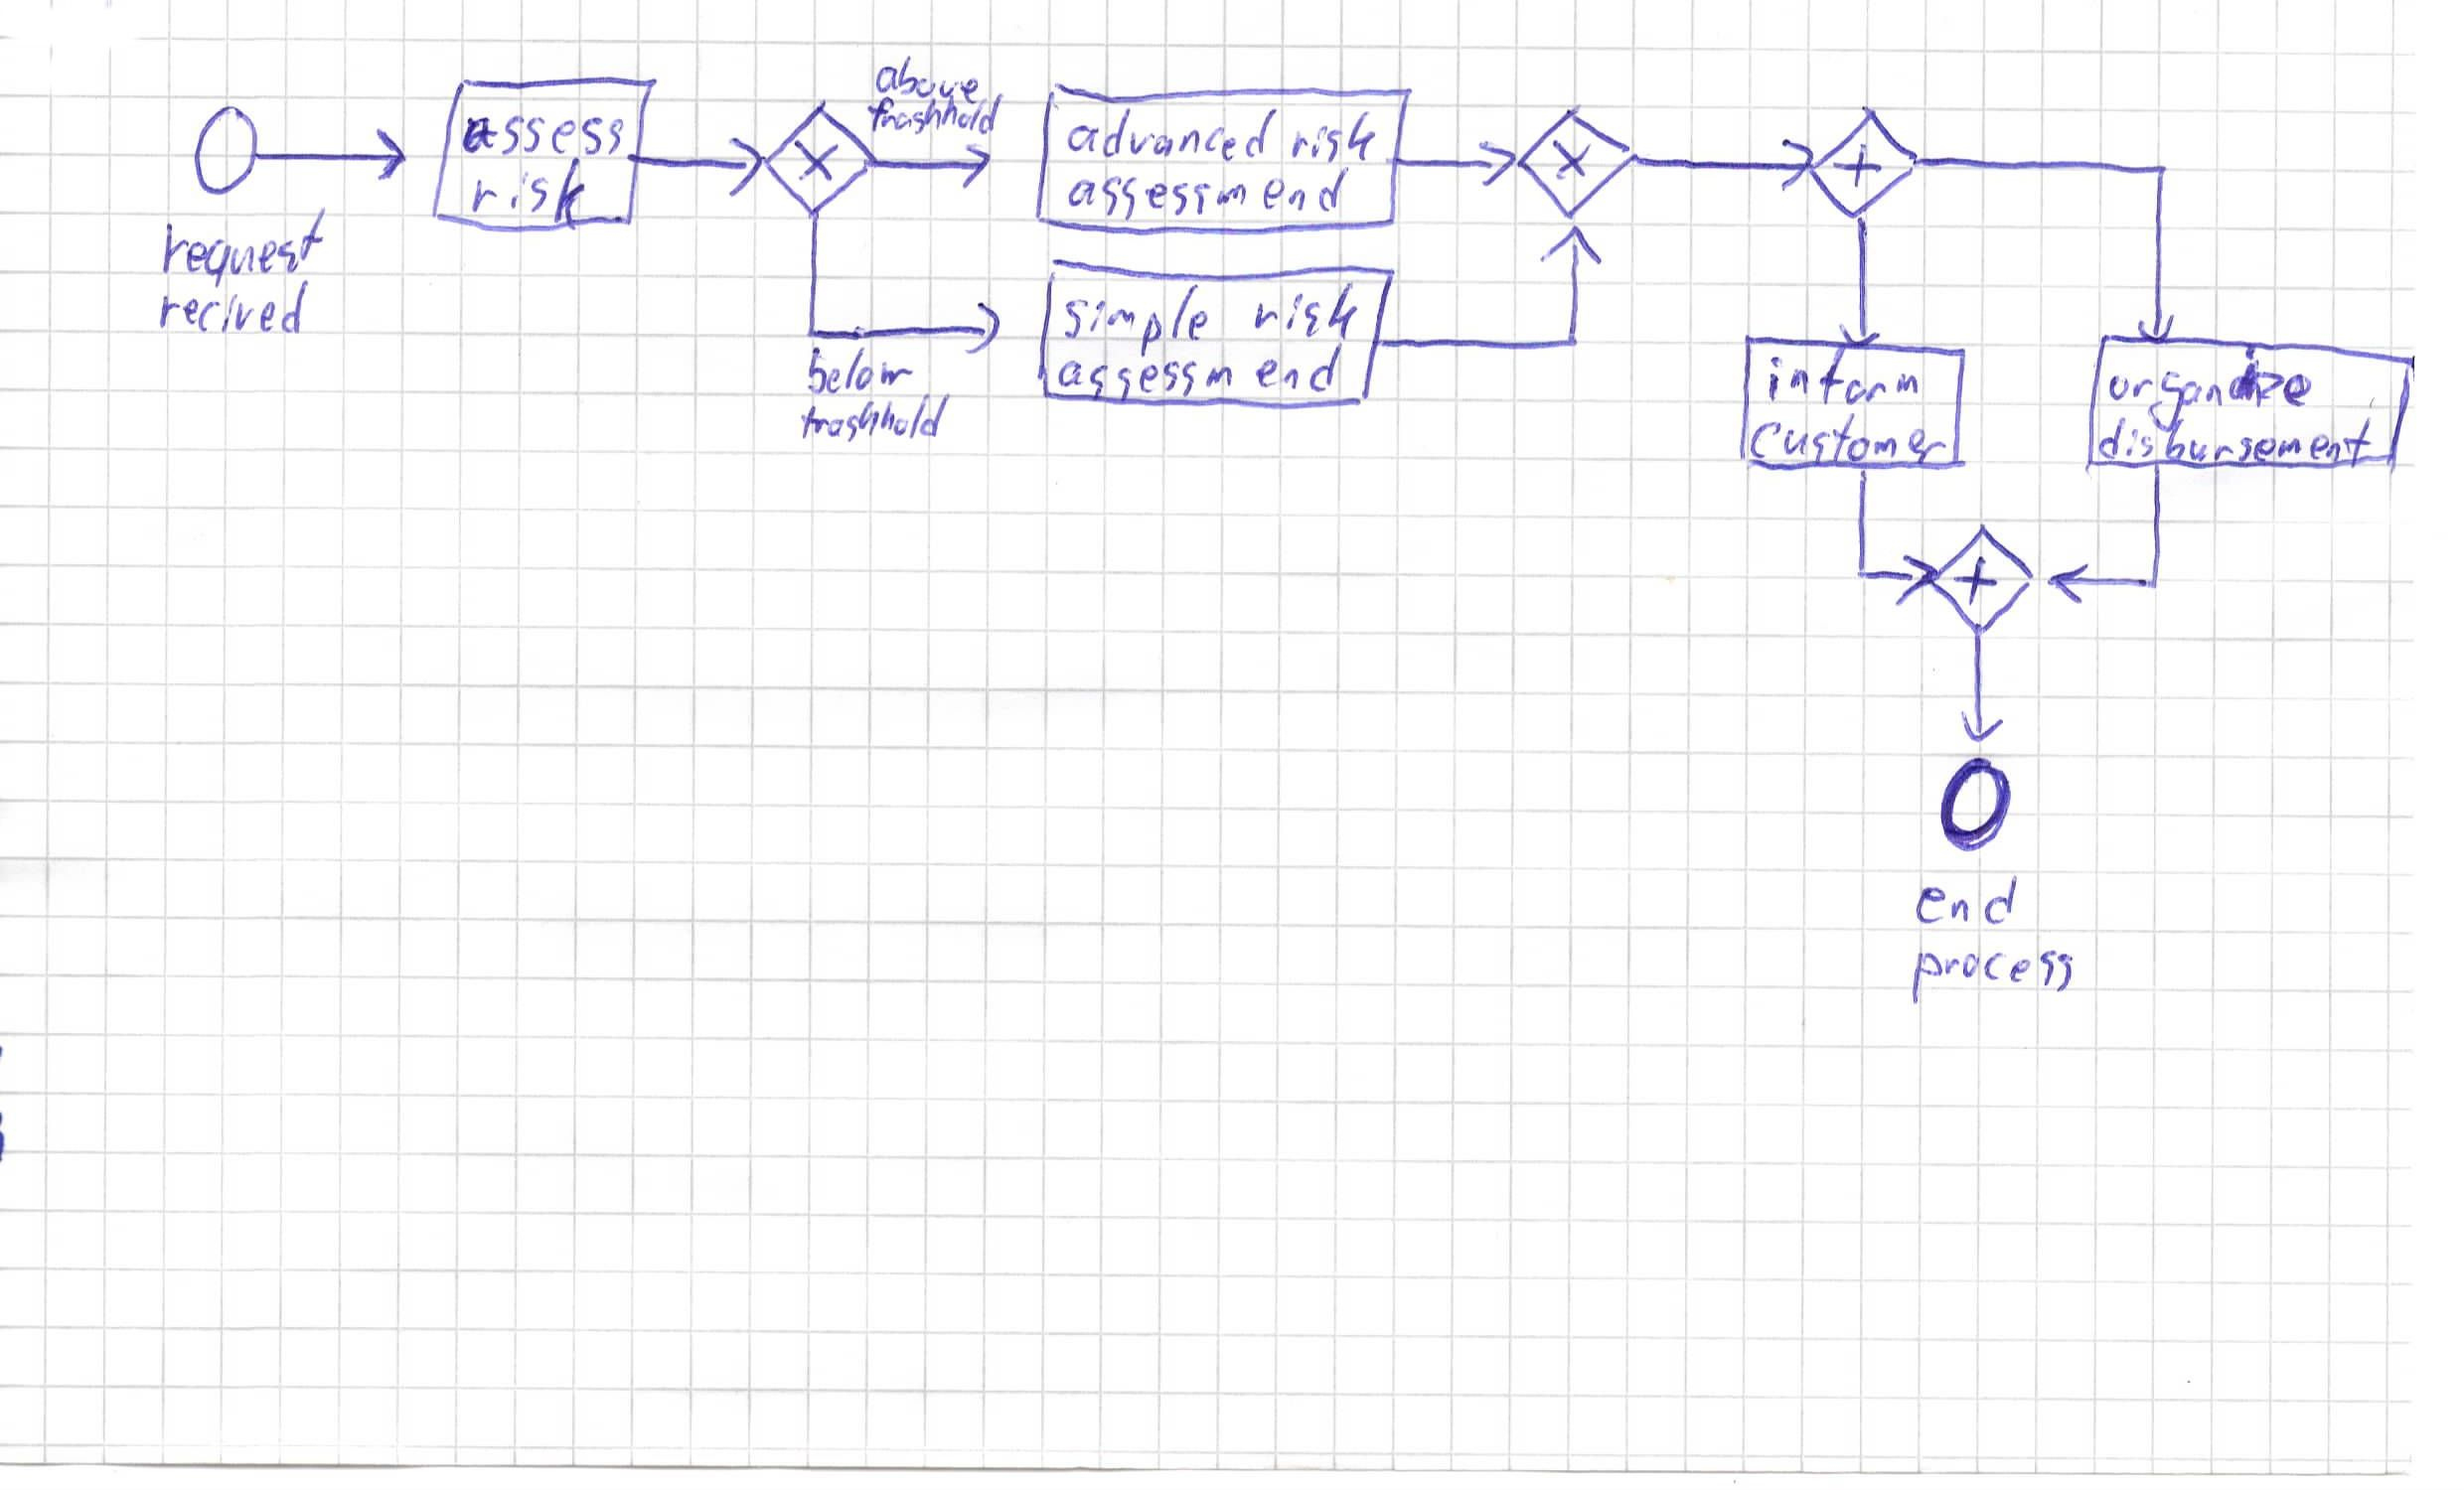above: (875, 58, 986, 102)
advanced: (1067, 104, 1281, 171)
assess: (465, 111, 628, 171)
assessmend: (1058, 164, 1364, 218), (1056, 343, 1345, 396)
below: (806, 341, 912, 401)
customer: (1746, 412, 1952, 470)
disbursement: (2094, 419, 2399, 464)
end: (1904, 866, 2029, 934), (1250, 341, 1353, 398), (1262, 171, 1353, 218)
inform: (1762, 348, 1920, 403)
organize: (2100, 348, 2314, 426)
process: (1904, 941, 2077, 1004)
recived: (153, 281, 313, 340)
request: (157, 204, 336, 281)
risk: (458, 157, 597, 229), (1246, 281, 1364, 343), (1283, 111, 1389, 171)
simple: (1054, 281, 1228, 355)
trashhold: (796, 396, 952, 445), (864, 97, 998, 141)
